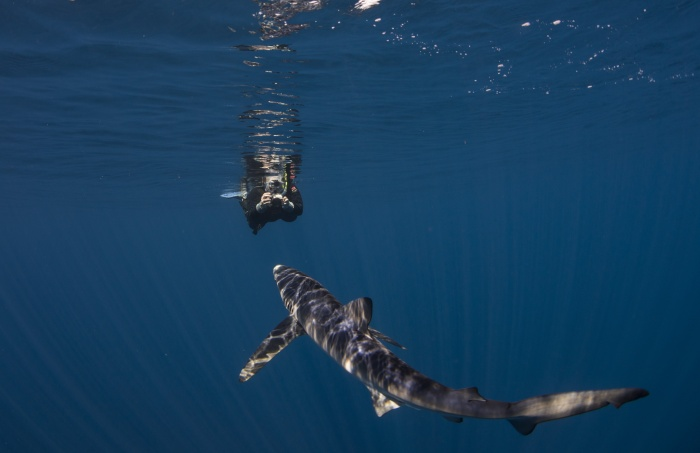Azul: (216, 259, 647, 450)
